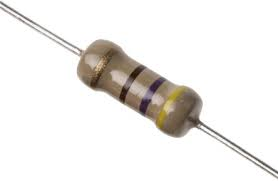resistor: (55, 25, 214, 149)
